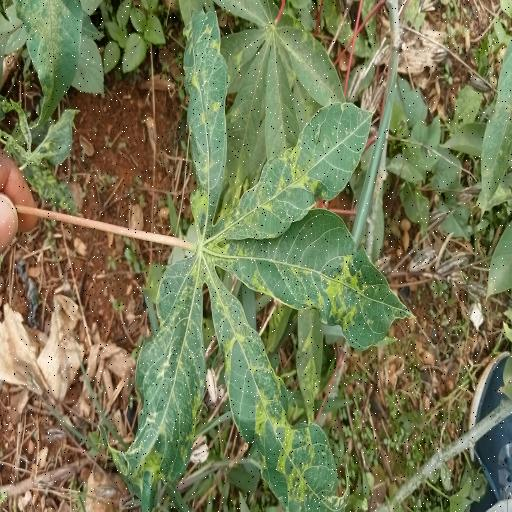Cassava_Mosaic: (111, 7, 409, 512), (209, 0, 343, 198)
